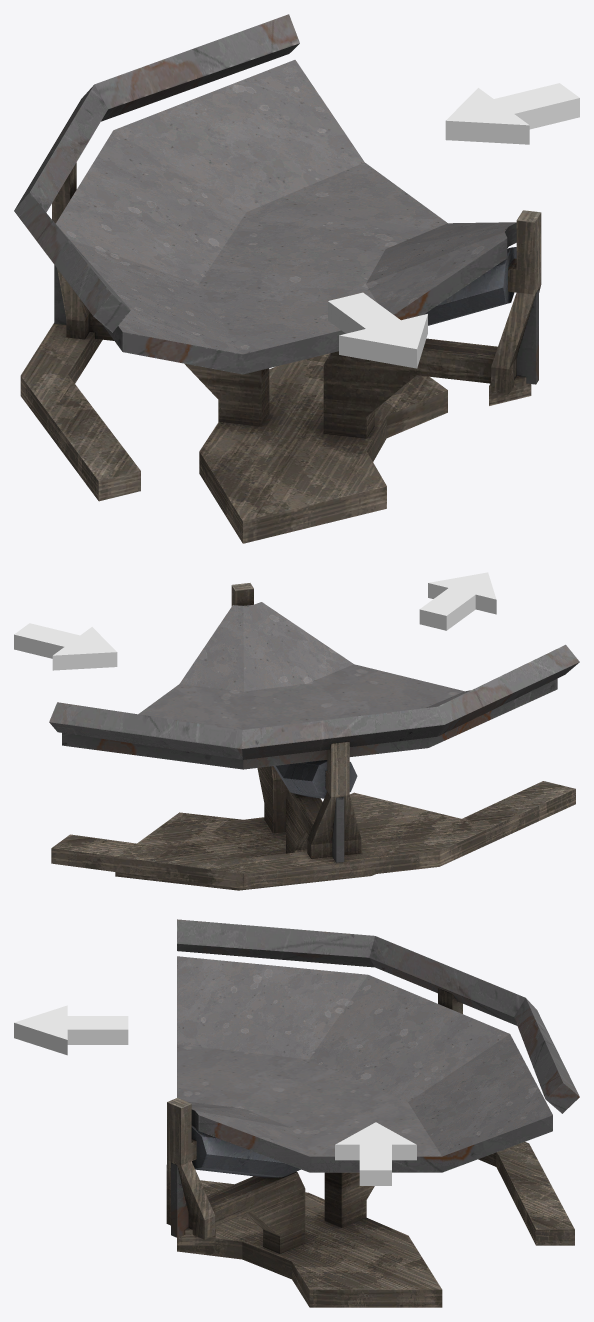
File: Conveyor90.glb
3 views of the same model, one above another, from view 1: azimuth 30°, elevation 25°; view 2: azimuth 150°, elevation 25°; view 3: azimuth 270°, elevation 25° (orthographic). The views are drawn at different scales.
Visible parts, largest first — view 1: Conveyor90, ghostarrow (1), ghostarrow; view 2: Conveyor90, ghostarrow (1), ghostarrow; view 3: Conveyor90, ghostarrow, ghostarrow (1).
Boxes of the visible parts, x1,y1,x2,y2 form: Conveyor90: [14, 14, 541, 543]; ghostarrow (1): [445, 83, 579, 144]; ghostarrow: [328, 292, 427, 368]; Conveyor90: [49, 583, 579, 890]; ghostarrow (1): [14, 623, 117, 670]; ghostarrow: [419, 572, 496, 630]; Conveyor90: [166, 919, 579, 1307]; ghostarrow: [14, 1005, 128, 1055]; ghostarrow (1): [335, 1122, 416, 1185].
Size of the model in its own units: 1.39 by 0.6235 by 1.42.
3 materials, 2 textured.
